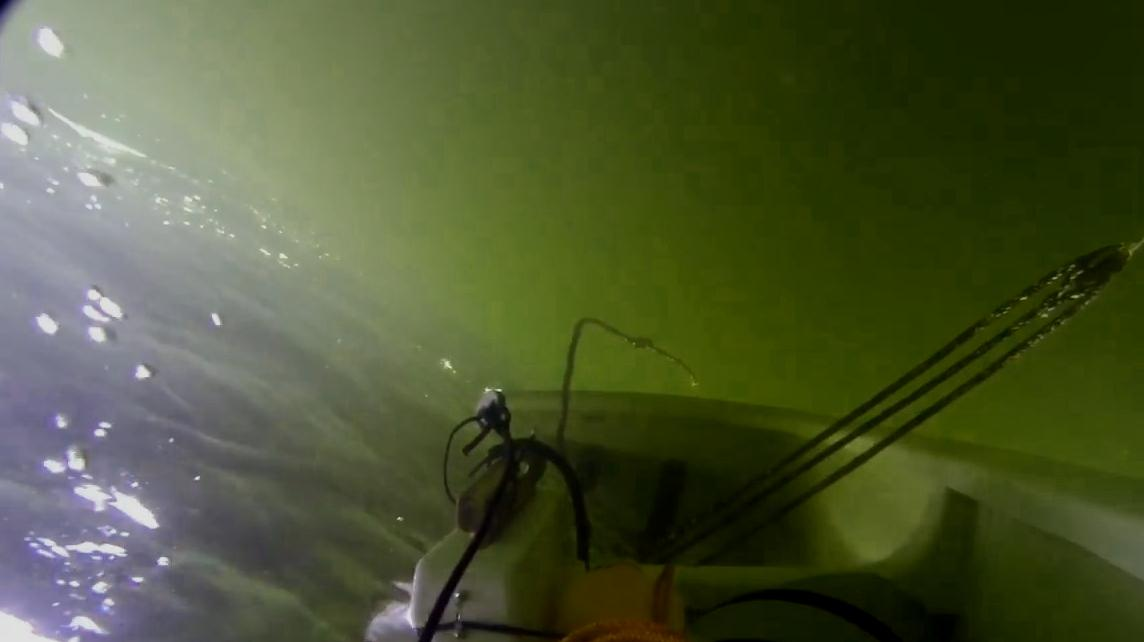boat: (362, 247, 1144, 642)
underwater: (0, 0, 1144, 642)
